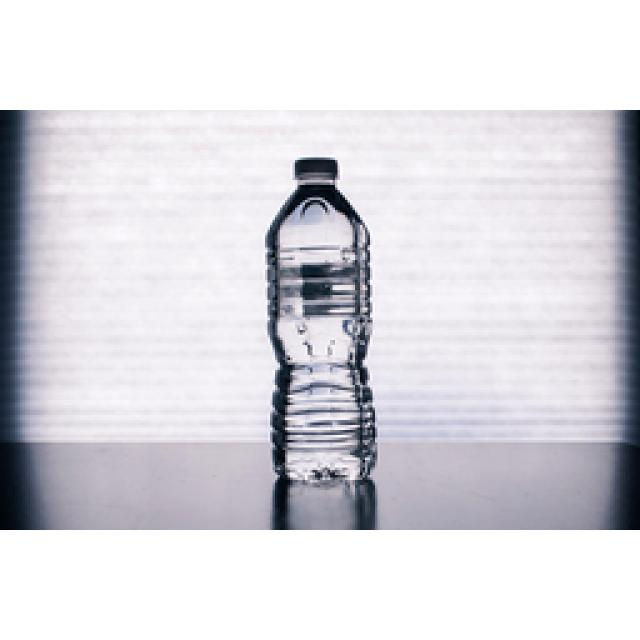plastic_water_bottles: (257, 152, 388, 496)
